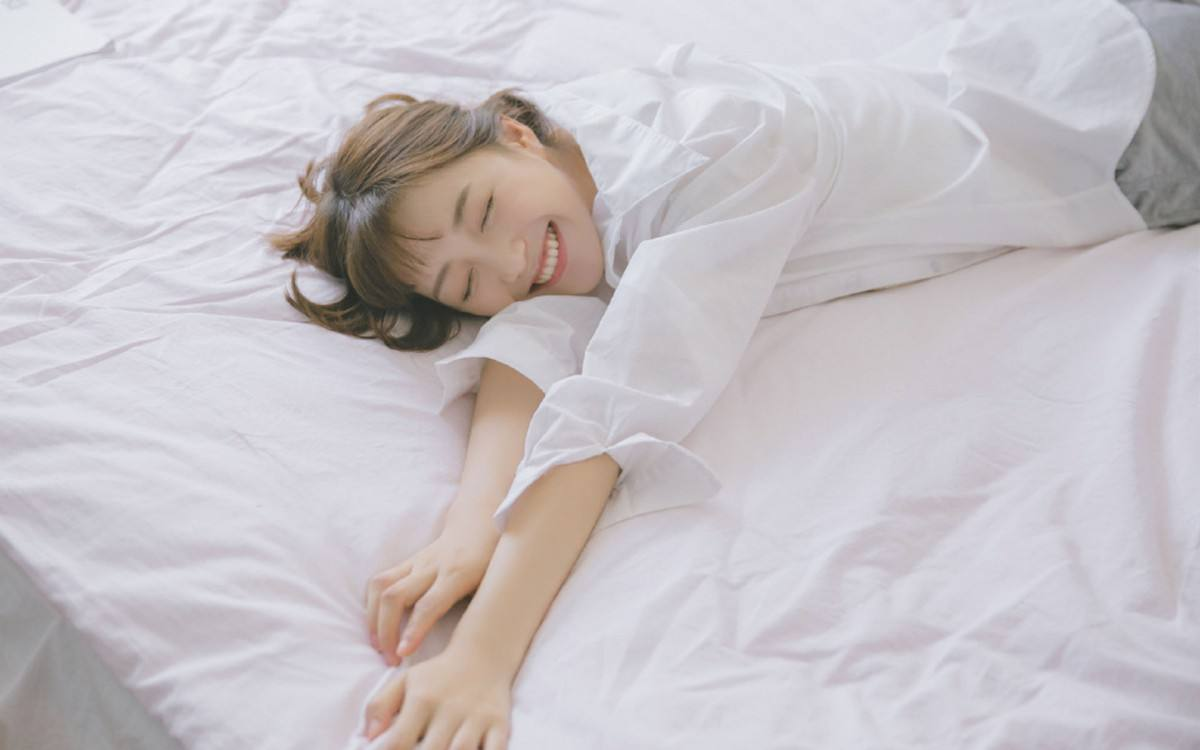person: (283, 70, 1147, 499)
